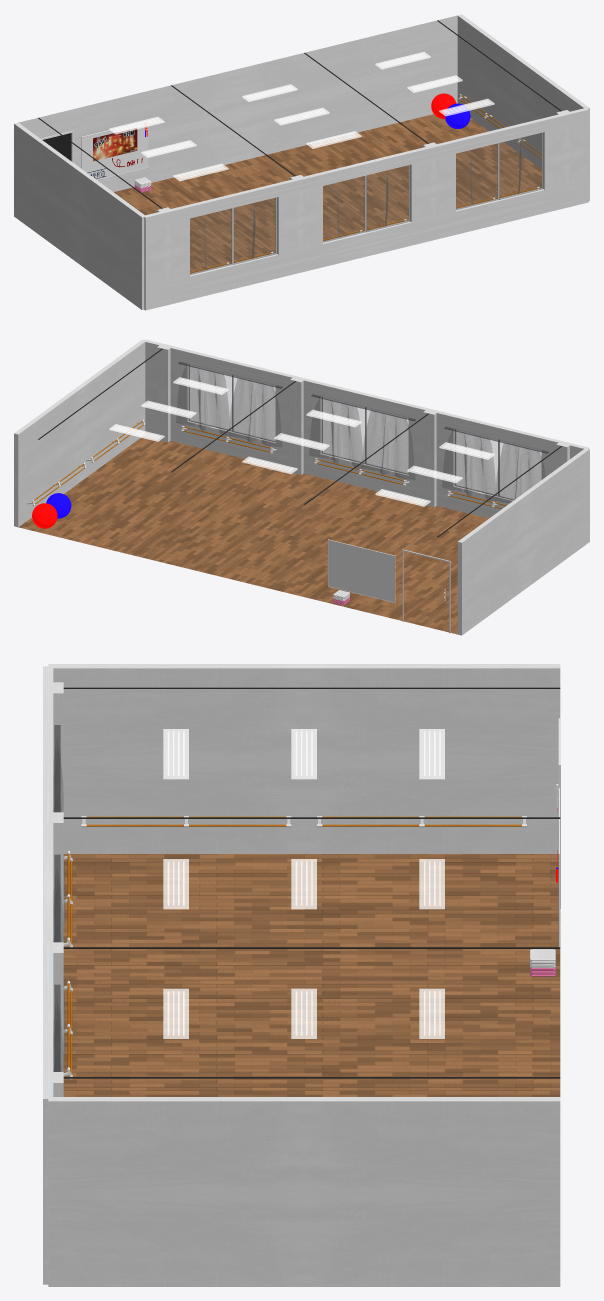
The model's file is Dance Studio_haihuyou.glb.
3 renders of one model, top to bottom at view 1: azimuth 30°, elevation 25°; view 2: azimuth 150°, elevation 25°; view 3: azimuth 270°, elevation 25°, orthographic. The views are drawn at different scales.
Parts seen in each view (by area): view 1: Plane (×2), garasu (×6), Cube (1), Cube (×10), Cube (2), Cube (3), Cube (4), Cube (5), Cube (6), Cube (7), boad, postor (+3 smaller); view 2: Plane, Cube (×10), Box001 (×3), Cube (1), Cube (2), Cube (3), garasu (×6), boad, Cube (7), Cube (6), Cube (4), Cube (10) (+4 smaller); view 3: Plane, Cube (×10), Cube (1), Cube (3), Box001 (×2), Cube (9), Cube (11), Cube (10), Cube (12), Cube (14), Cube (15), Cube (13).
Part boxes in pixels (left/top/right/bottom): Plane (×2): left=18, top=15, right=541, bottom=273; garasu (×6): left=190, top=133, right=541, bottom=273; Cube (1): left=14, top=122, right=145, bottom=309; Cube (×10): left=109, top=14, right=589, bottom=200; Cube (2): left=144, top=179, right=588, bottom=310; Cube (3): left=143, top=107, right=588, bottom=229; Cube (4): left=543, top=121, right=588, bottom=189; Cube (5): left=144, top=218, right=189, bottom=287; Cube (6): left=410, top=153, right=455, bottom=222; Cube (7): left=277, top=186, right=322, bottom=254; boad: left=81, top=123, right=147, bottom=179; postor: left=93, top=128, right=137, bottom=161; Plane: left=18, top=435, right=488, bottom=634; Cube (×10): left=14, top=340, right=494, bottom=527; Box001 (×3): left=176, top=362, right=548, bottom=502; Cube (1): left=457, top=448, right=589, bottom=635; Cube (2): left=145, top=411, right=514, bottom=518; Cube (3): left=143, top=339, right=588, bottom=457; garasu (×6): left=190, top=368, right=541, bottom=498; boad: left=328, top=540, right=394, bottom=602; Cube (7): left=409, top=418, right=454, bottom=486; Cube (6): left=276, top=385, right=321, bottom=453; Cube (4): left=145, top=353, right=188, bottom=421; Cube (10): left=290, top=378, right=303, bottom=474; Plane: left=63, top=854, right=560, bottom=1096; Cube (×10): left=48, top=729, right=560, bottom=1286; Cube (1): left=48, top=664, right=560, bottom=853; Cube (3): left=43, top=666, right=53, bottom=1122; Box001 (×2): left=53, top=725, right=65, bottom=1054; Cube (9): left=53, top=682, right=63, bottom=812; Cube (11): left=53, top=812, right=63, bottom=942; Cube (10): left=53, top=942, right=63, bottom=1071; Cube (12): left=63, top=1077, right=560, bottom=1078; Cube (14): left=63, top=947, right=560, bottom=948; Cube (15): left=63, top=817, right=560, bottom=818; Cube (13): left=63, top=687, right=560, bottom=688.
Bounding box in the file's own units: 20.2 × 4.03 × 10.11.
18 materials, 9 textured.
